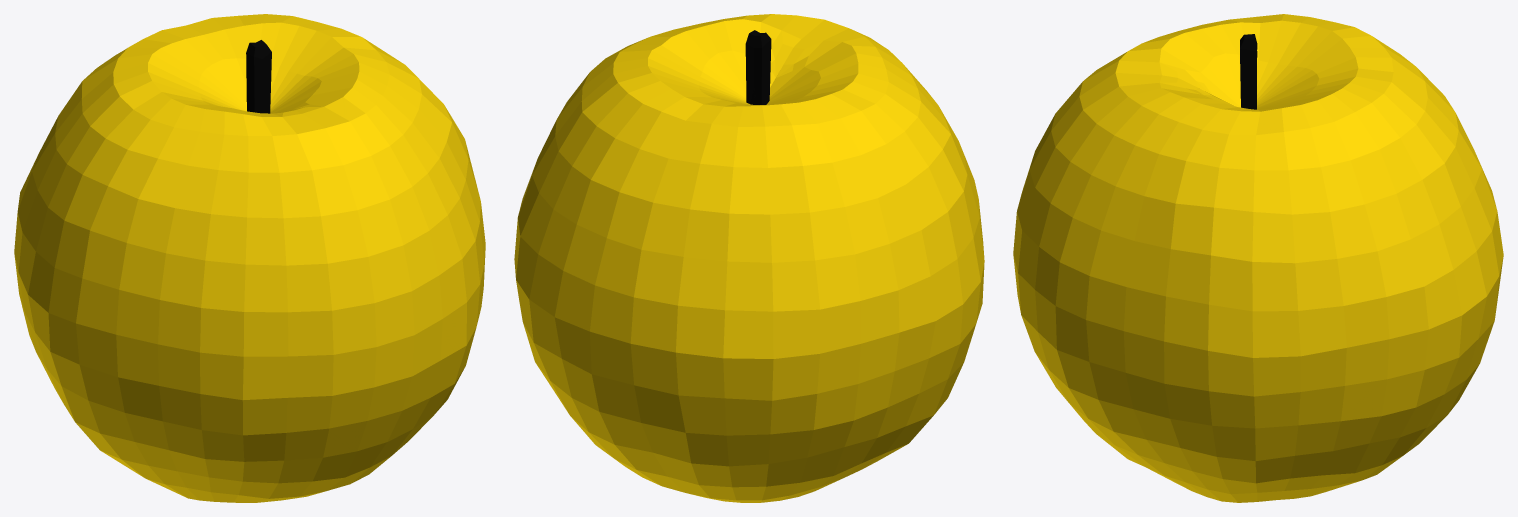
File: pomme1.fbx
3 renders of one model, left to right at view 1: azimuth 30°, elevation 25°; view 2: azimuth 150°, elevation 25°; view 3: azimuth 270°, elevation 25°, orthographic.
Visible parts, largest first — view 1: pomme; view 2: pomme; view 3: pomme.
Boxes of the visible parts, x1=… form: pomme: x1=14, y1=14, x2=485, y2=502; pomme: x1=514, y1=14, x2=984, y2=502; pomme: x1=1013, y1=14, x2=1503, y2=502.
Size of the model in its own units: 190 by 193 by 194.
